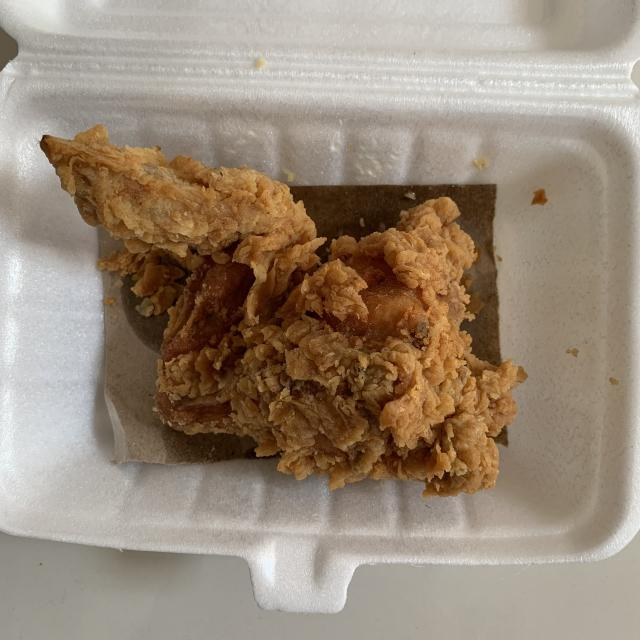Frango: (37, 126, 511, 490)
